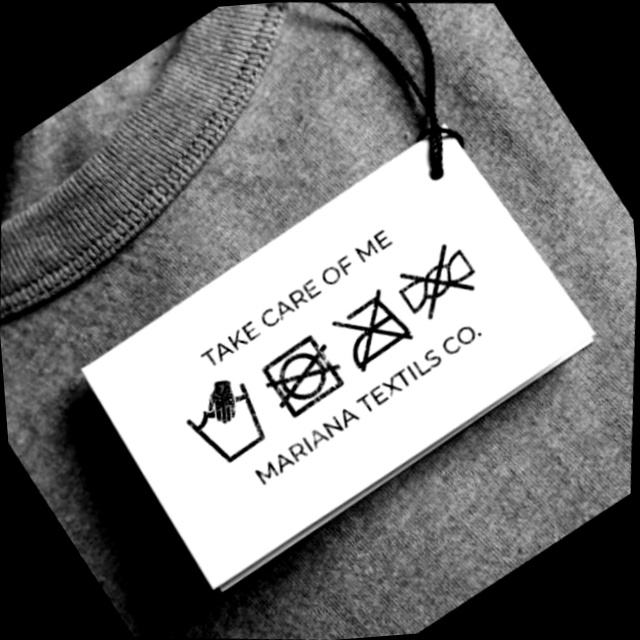DN_iron: (329, 285, 415, 376)
DN_tumble_dry: (254, 328, 346, 419)
DN_wring: (393, 236, 483, 322)
hand_wash: (178, 371, 273, 474)
